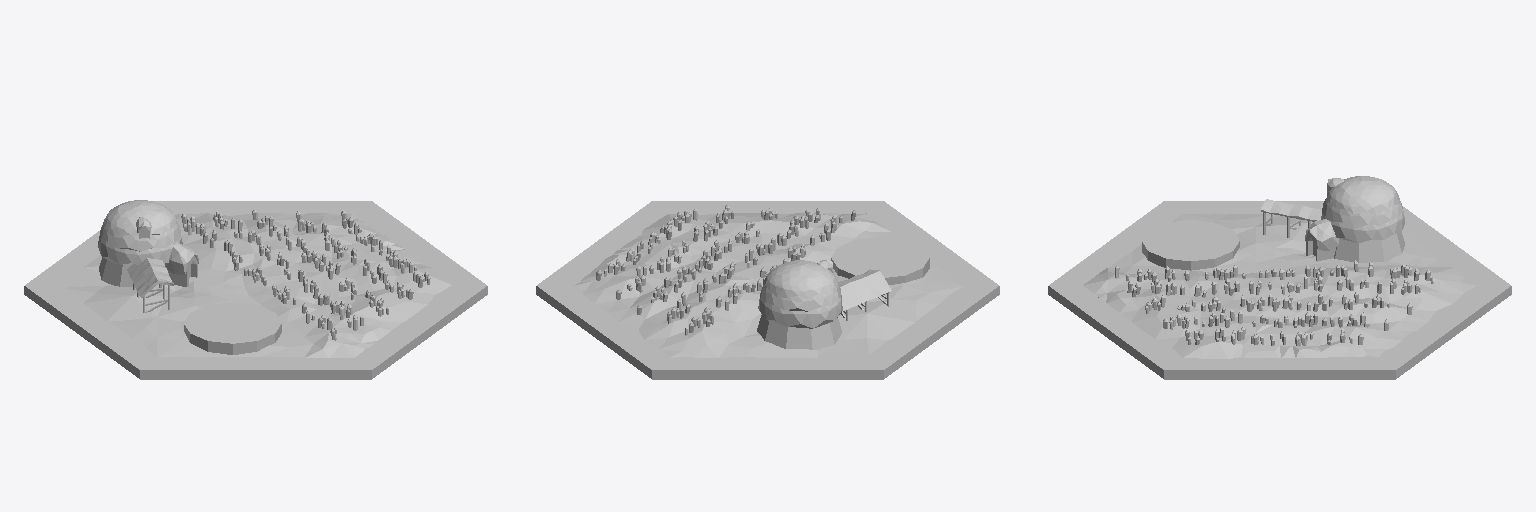
Rendered from farm.obj.
3 renders of one model, left to right at view 1: azimuth 30°, elevation 25°; view 2: azimuth 150°, elevation 25°; view 3: azimuth 270°, elevation 25°, orthographic.
Parts seen in each view (by area): view 1: Base.001_Cylinder.018; view 2: Base.001_Cylinder.018; view 3: Base.001_Cylinder.018.
Boxes of the visible parts, x1=… form: Base.001_Cylinder.018: x1=24, y1=200, x2=487, y2=379; Base.001_Cylinder.018: x1=536, y1=201, x2=999, y2=379; Base.001_Cylinder.018: x1=1048, y1=176, x2=1511, y2=379.
Bounding box in the file's own units: 3.98 × 0.85 × 4.6.